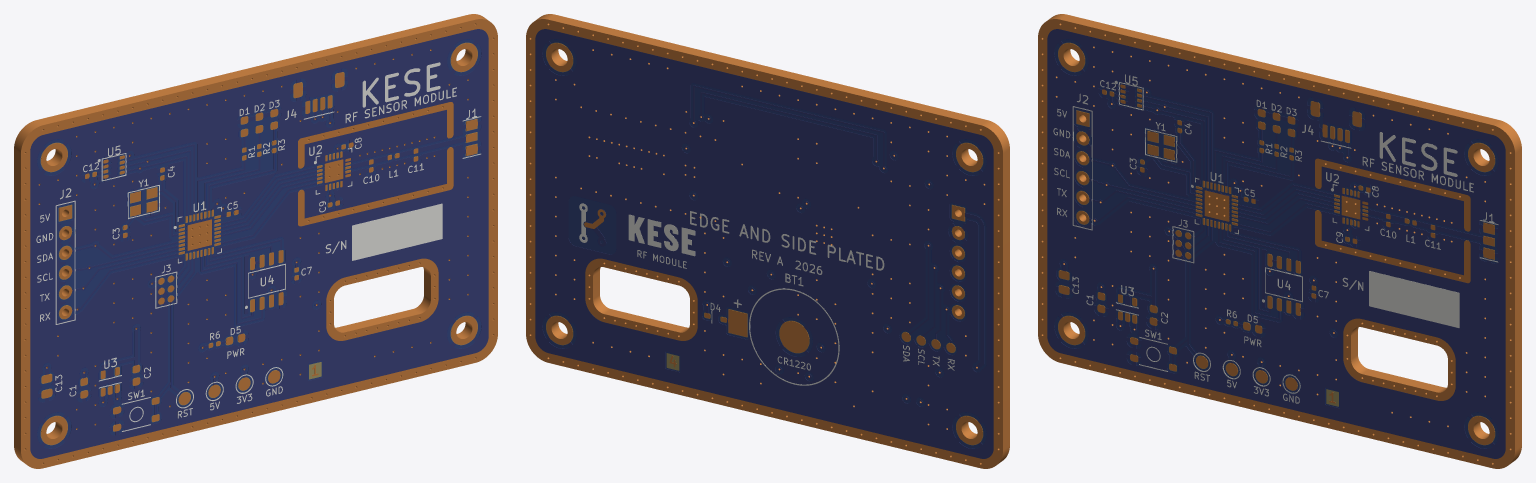
Rendered from rf_module_blue_simulation.glb.
3 views of the same model, side by side, from view 1: azimuth 30°, elevation 25°; view 2: azimuth 150°, elevation 25°; view 3: azimuth 330°, elevation 25° (orthographic).
Visible parts, largest first — view 1: Copper_F.Cu, Top Solder Mask, Board_dielectric 1, Top Silkscreen, Plating, Copper_B.Cu; view 2: Copper_B.Cu, Bottom Solder Mask, Plating, Board_dielectric 3, Bottom Silkscreen, Copper_F.Cu; view 3: Copper_F.Cu, Top Solder Mask, Board_dielectric 1, Top Silkscreen, Plating, Copper_B.Cu.
Boxes of the visible parts, x1=… form: Copper_F.Cu: x1=20, y1=19, x2=497, y2=468; Top Solder Mask: x1=30, y1=29, x2=488, y2=458; Board_dielectric 1: x1=38, y1=39, x2=480, y2=448; Top Silkscreen: x1=36, y1=62, x2=481, y2=431; Plating: x1=14, y1=14, x2=494, y2=464; Copper_B.Cu: x1=14, y1=14, x2=475, y2=449; Copper_B.Cu: x1=526, y1=19, x2=1003, y2=468; Bottom Solder Mask: x1=535, y1=29, x2=993, y2=458; Plating: x1=529, y1=14, x2=1009, y2=464; Board_dielectric 3: x1=543, y1=39, x2=985, y2=448; Bottom Silkscreen: x1=579, y1=203, x2=954, y2=385; Copper_F.Cu: x1=548, y1=14, x2=1009, y2=449; Copper_F.Cu: x1=1038, y1=19, x2=1515, y2=468; Top Solder Mask: x1=1047, y1=29, x2=1505, y2=458; Board_dielectric 1: x1=1055, y1=39, x2=1497, y2=448; Top Silkscreen: x1=1053, y1=74, x2=1498, y2=403; Plating: x1=1041, y1=14, x2=1521, y2=464; Copper_B.Cu: x1=1060, y1=14, x2=1521, y2=449.
Bounding box in the file's own units: 0.064 × 0.044 × 0.00164.
